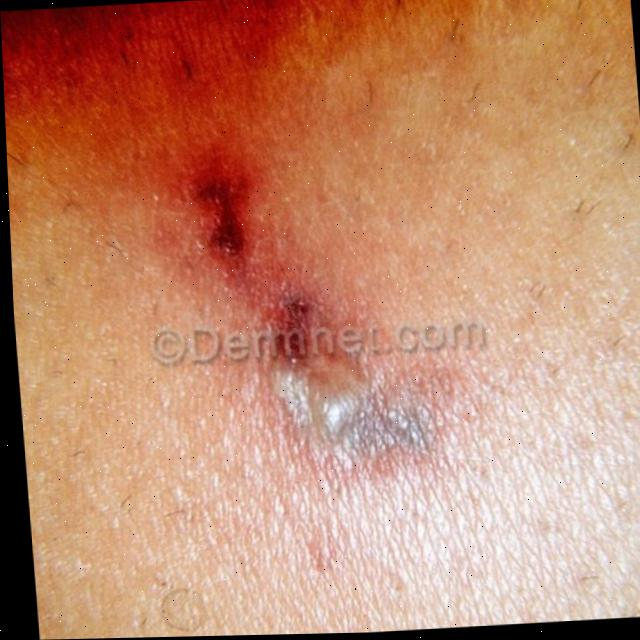Shingles: (190, 159, 403, 450)
